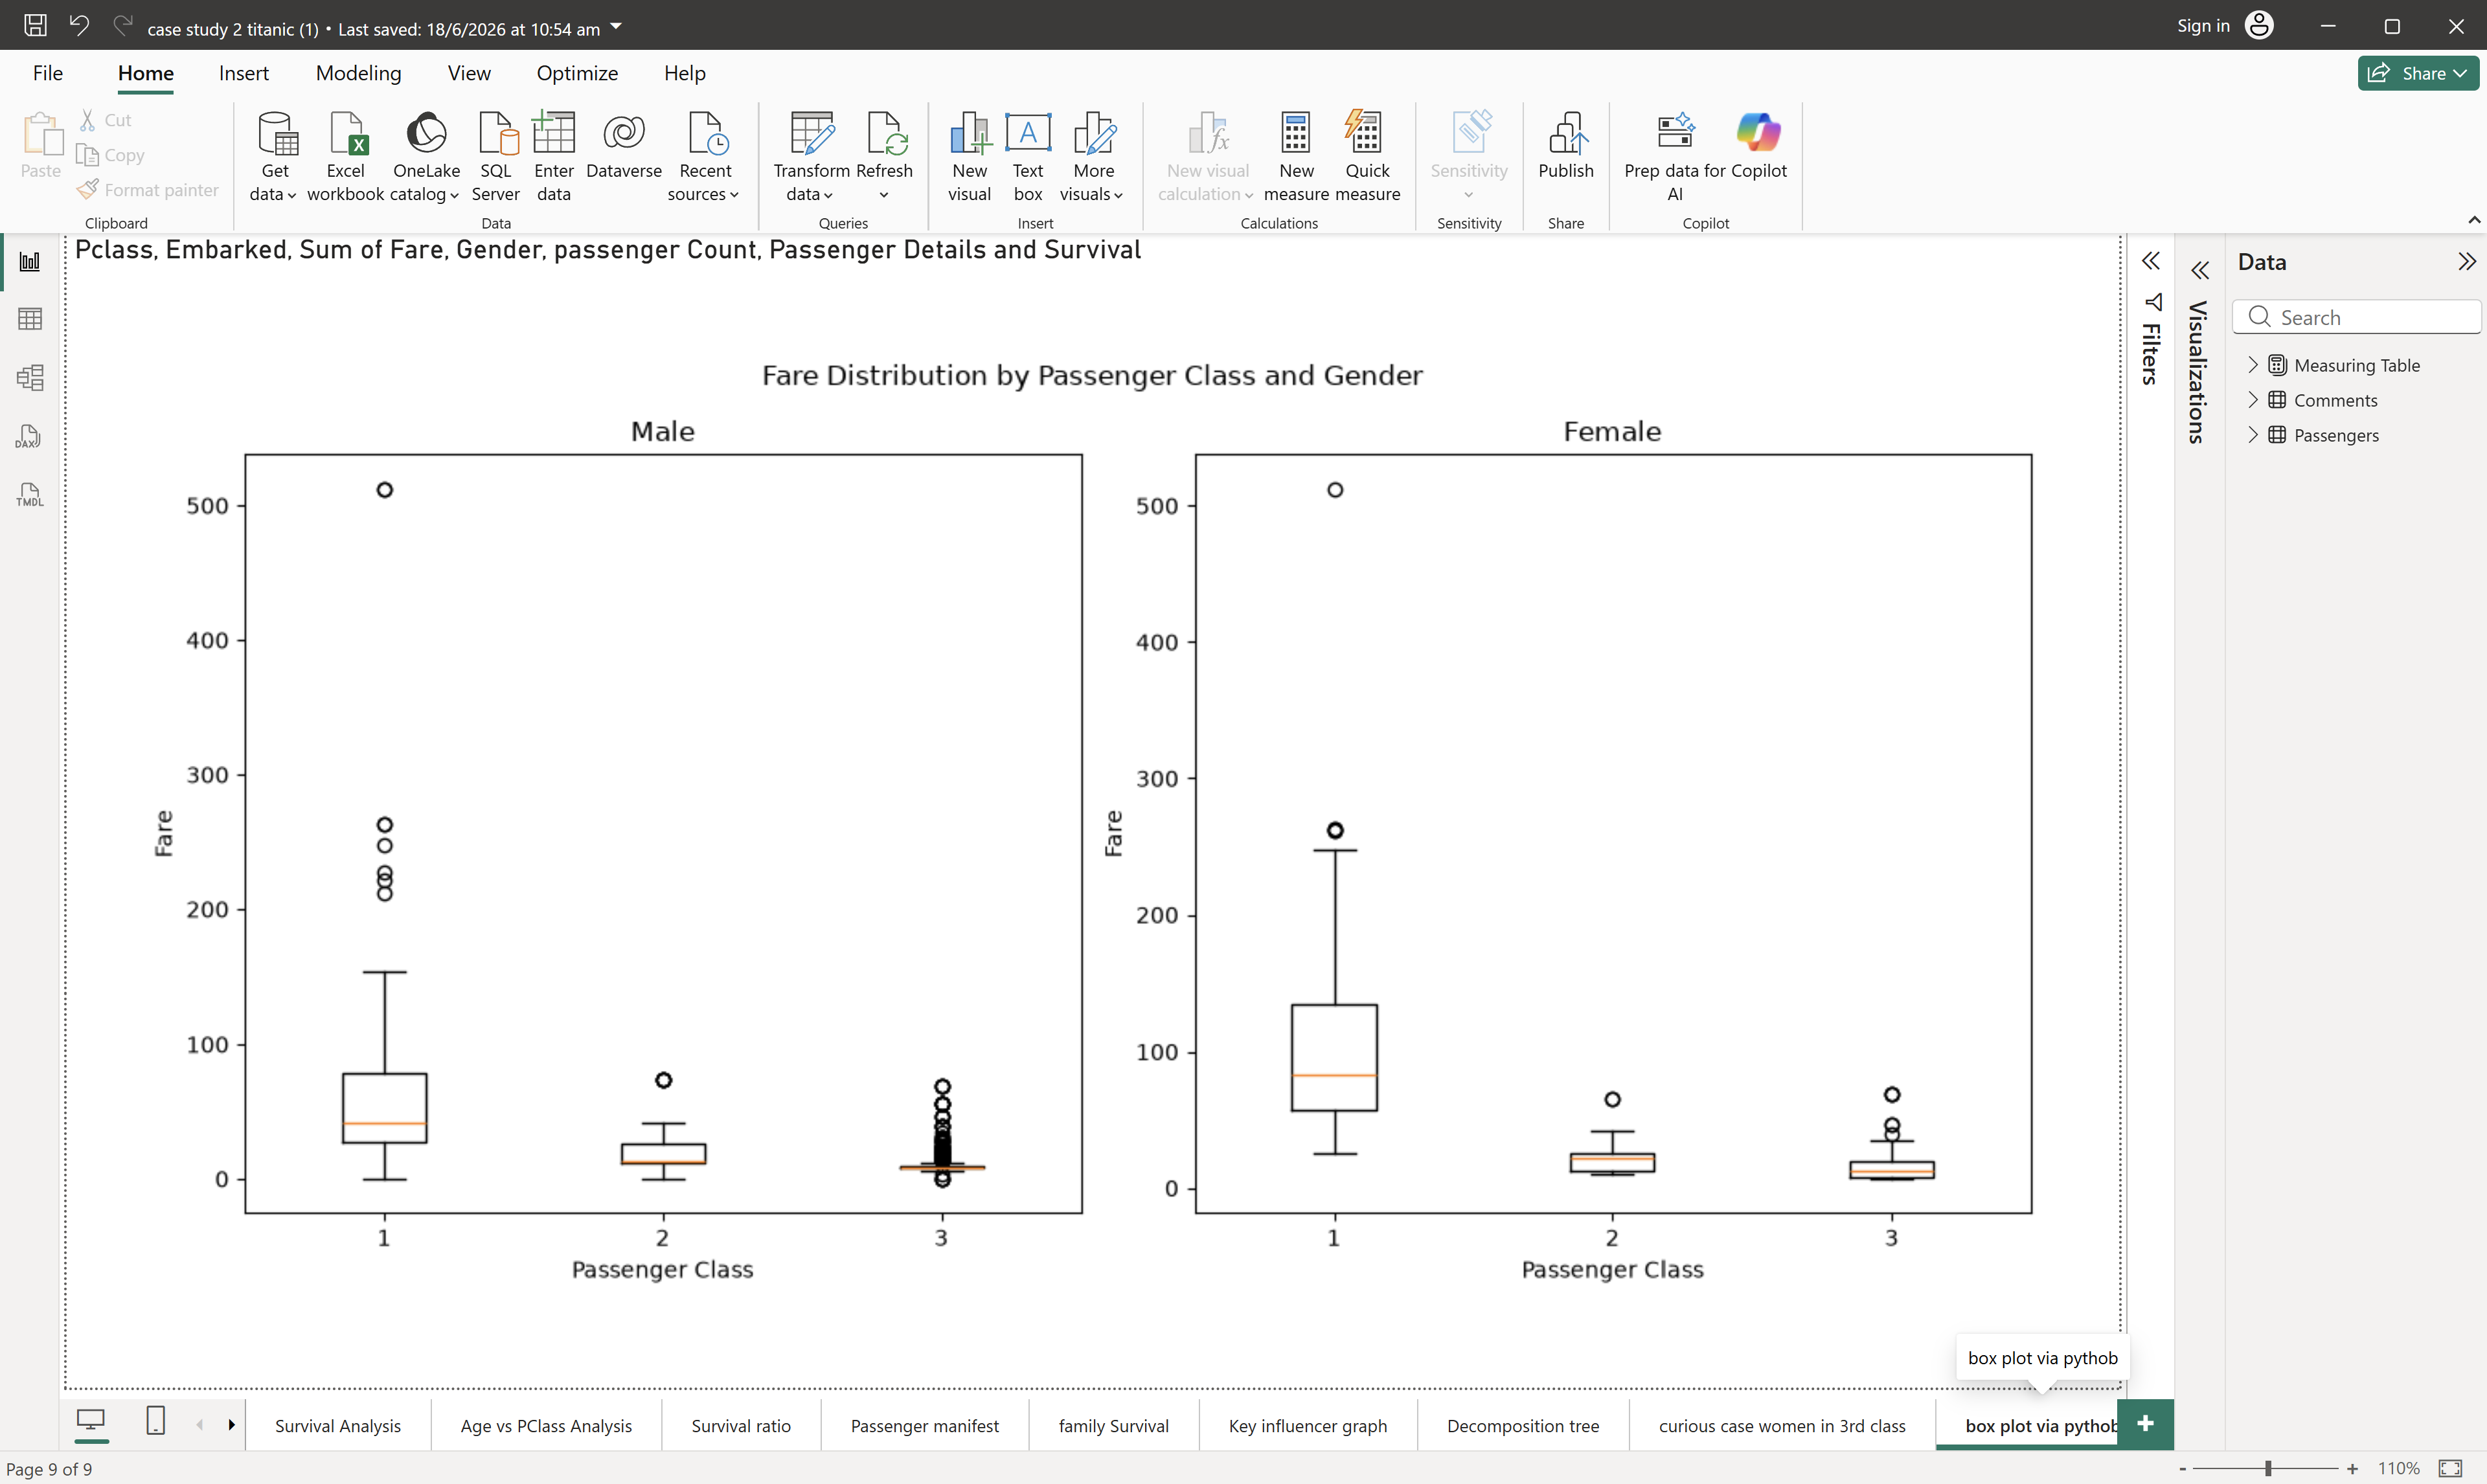

This screenshot's page, from the dashboard's own definition file:
{"tool":"powerbi","page":{"name":"box plot via pythob","canvas":[1280,720],"ordinal":8},"visuals":[{"type":"pythonVisual","fields":{"Values":["Passengers.Pclass","Passengers.Embarked","Sum(Passengers.Fare)","Passengers.Gender","Measuring Table.passenger Count","Passengers.Passenger Details","Passengers.Survival"]},"box":[0,0,1280.2,720],"z":0}]}

Visuals, with their boxes on the page's 1280x720 design canvas (x1, y1, x2, y2). These are canvas units, not pixel positions in the 2487x1484 screenshot, which may show the page scaled, cropped or inside an application window:
pythonVisual - Passengers.Pclass x Passengers.Embarked: l=0, t=0, r=1280, b=720
